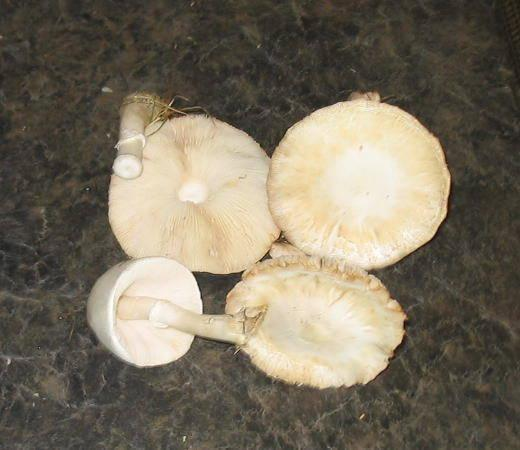Non-edible Mushroom: (86, 252, 408, 390), (265, 92, 451, 270), (106, 101, 280, 274)
